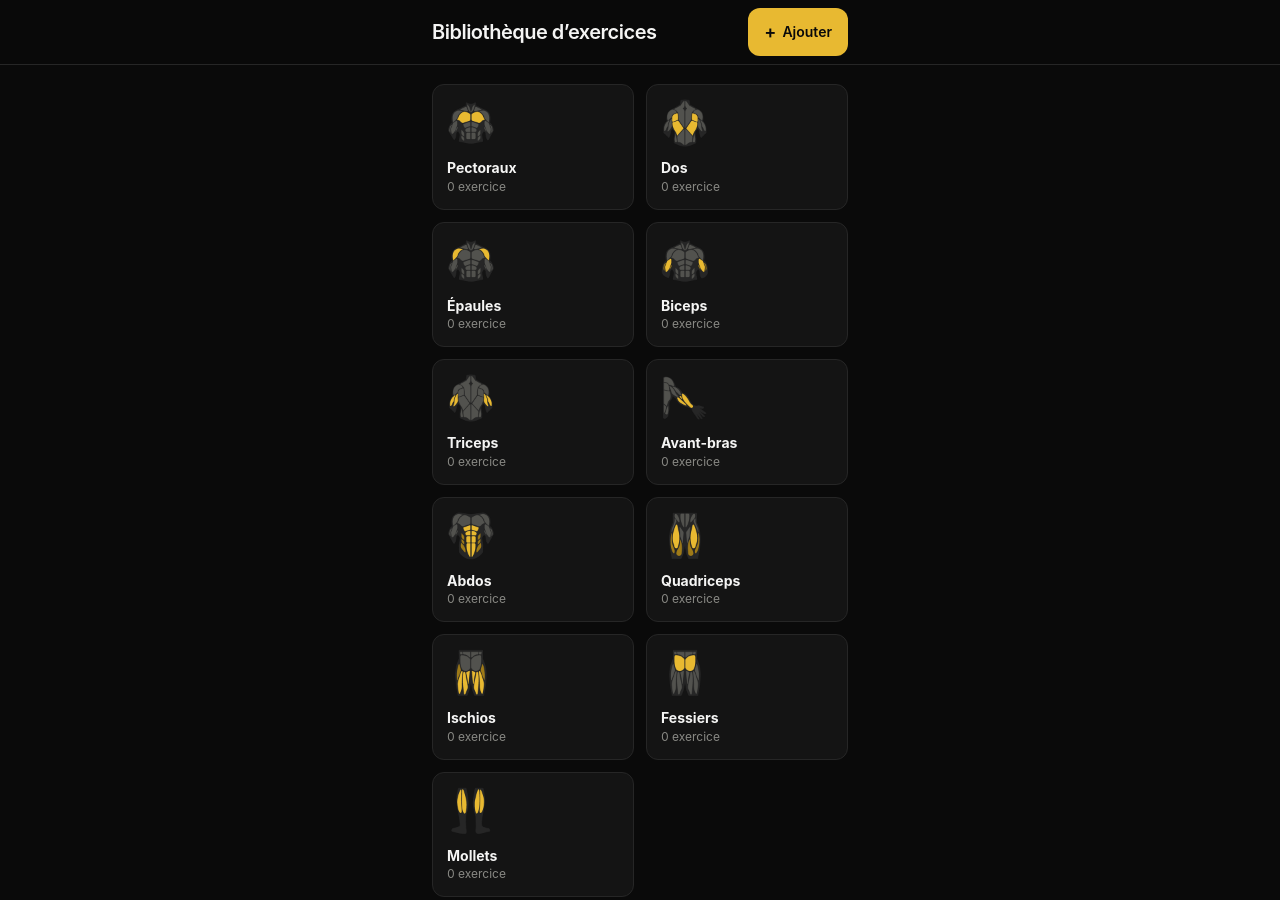
ExerciseList UI component (grille & navigation) › displays an error message when attempting to add a duplicate exercise
Check: the button "Pectoraux 0 exercice" is shown, box [432,84,634,210]
Click the button "+ Ajouter" at [798, 32], box [748,8,848,56]
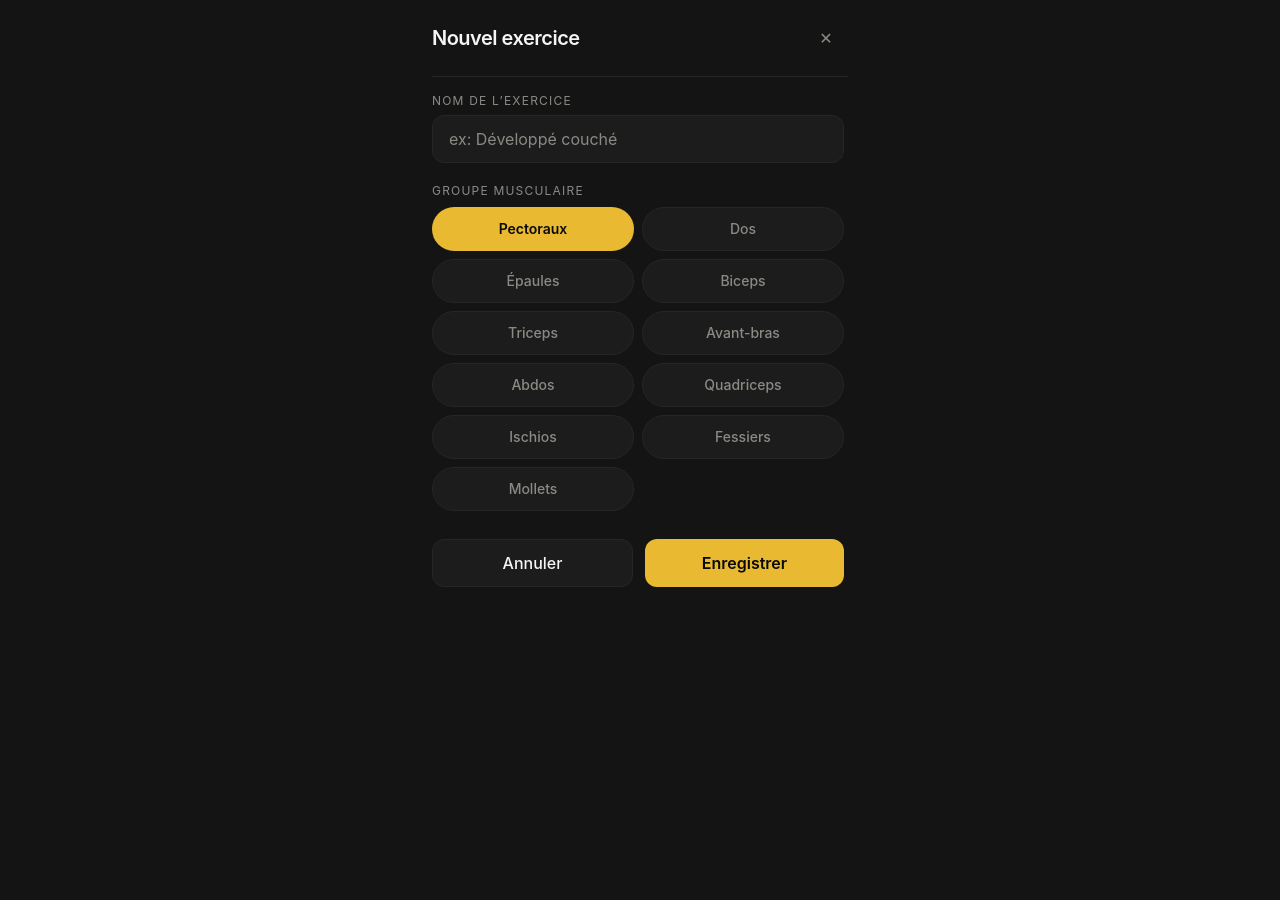
Type "développé couché barre" into the field labelled "Nom de l’exercice" at [638, 139], box [432,115,844,163]
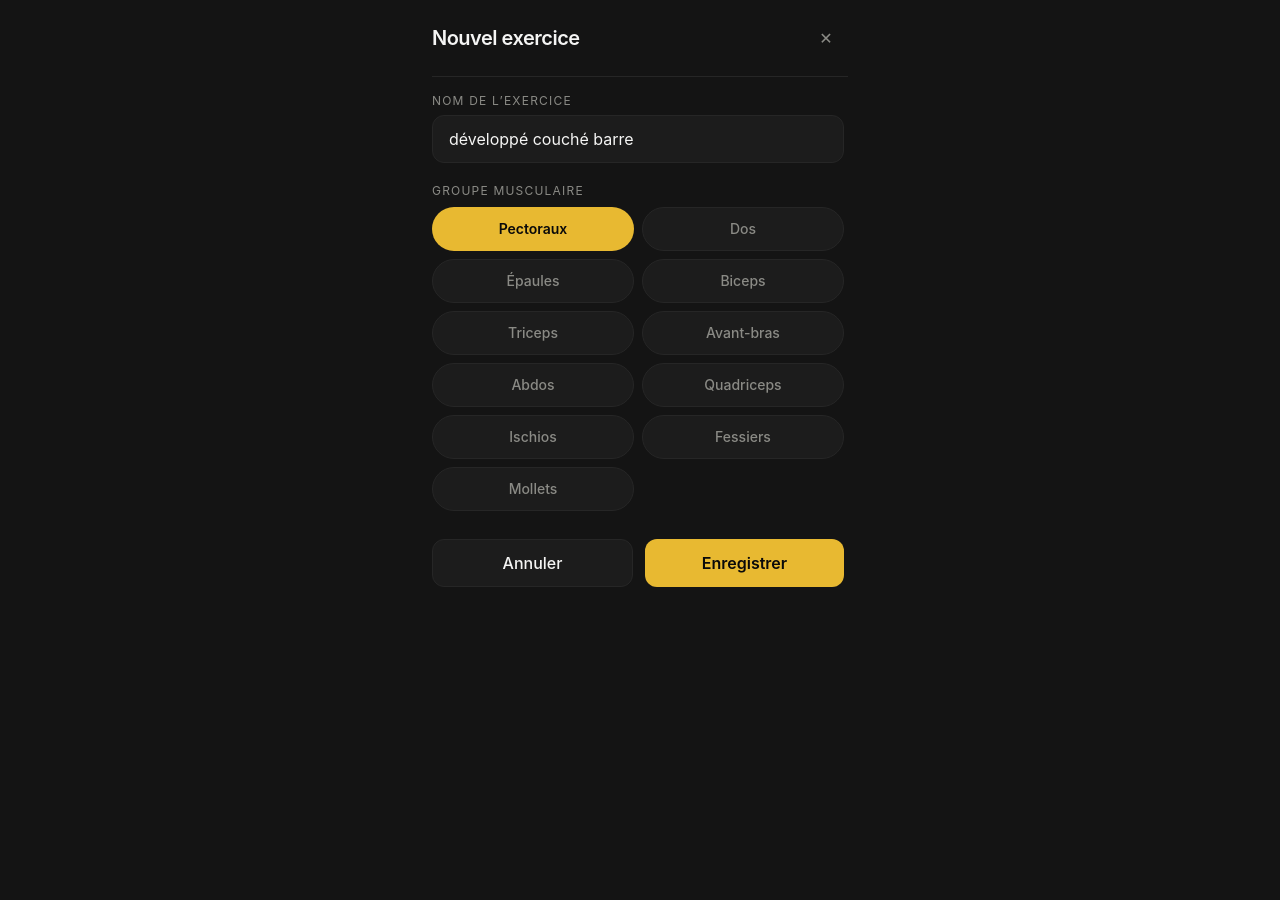
Click the button "Enregistrer" at [744, 563], box [645,539,844,587]
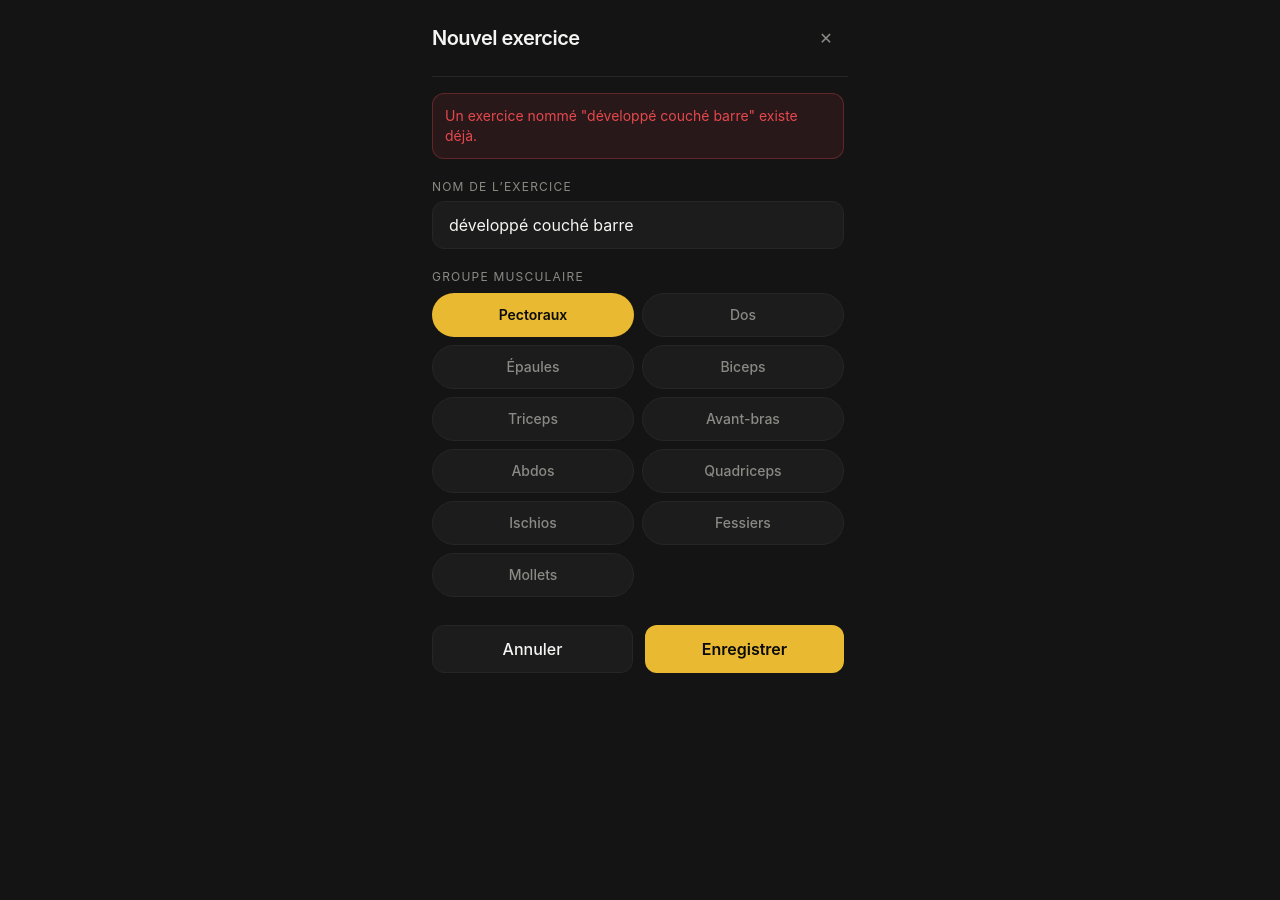
Check: the text "Un exercice nommé \"développé couché barre\" existe déjà." is shown, box [432,93,844,159]
